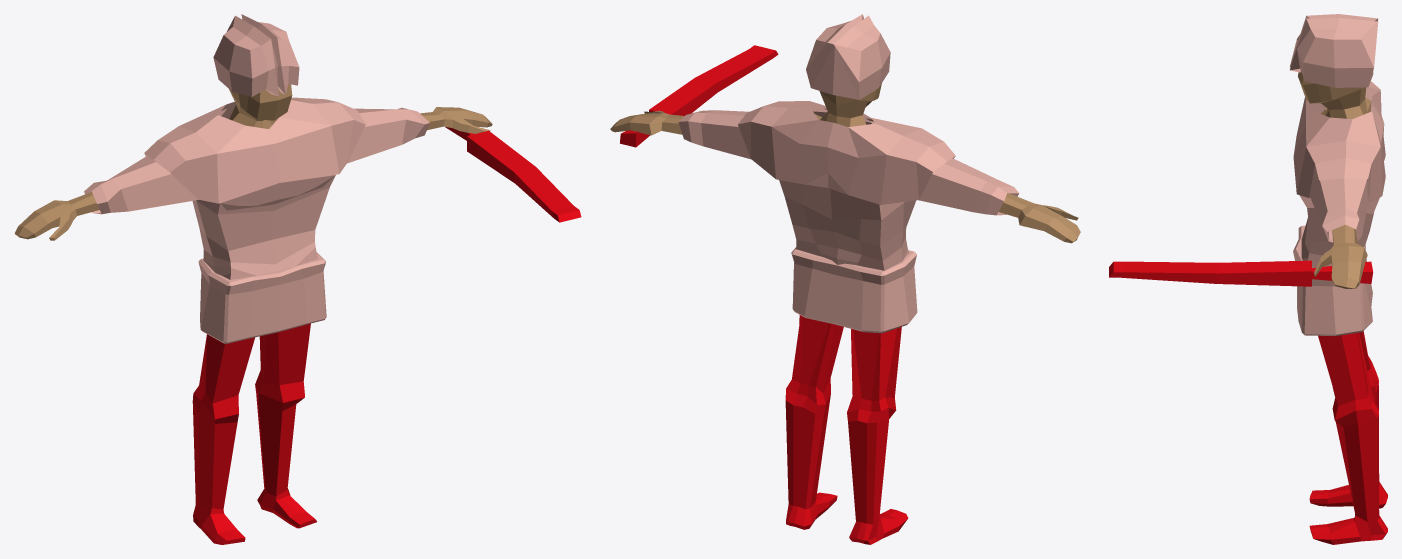
File: mergeHuman3.fbx
The picture shows the model from 3 angles, left to right: view 1: azimuth 30°, elevation 25°; view 2: azimuth 150°, elevation 25°; view 3: azimuth 270°, elevation 25°; orthographic projection.
Parts seen in each view (by area): view 1: Cube.001, Cube.002, Cube; view 2: Cube.001, Cube.002, Cube; view 3: Cube.001, Cube.002, Cube.
Boxes of the visible parts, bbox=[...] form: Cube.001: bbox=[14, 14, 492, 544]; Cube.002: bbox=[144, 97, 365, 203]; Cube: bbox=[445, 127, 581, 222]; Cube.001: bbox=[610, 14, 1080, 544]; Cube.002: bbox=[738, 101, 955, 204]; Cube: bbox=[620, 45, 778, 147]; Cube.001: bbox=[1290, 14, 1387, 544]; Cube.002: bbox=[1293, 81, 1385, 203]; Cube: bbox=[1109, 260, 1373, 286].
Bounding box in the file's own units: 2043 × 2093 × 1045.
